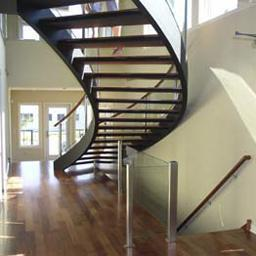Escaleras: (20, 1, 185, 181), (161, 172, 255, 240)
Puerta: (46, 104, 71, 158)
